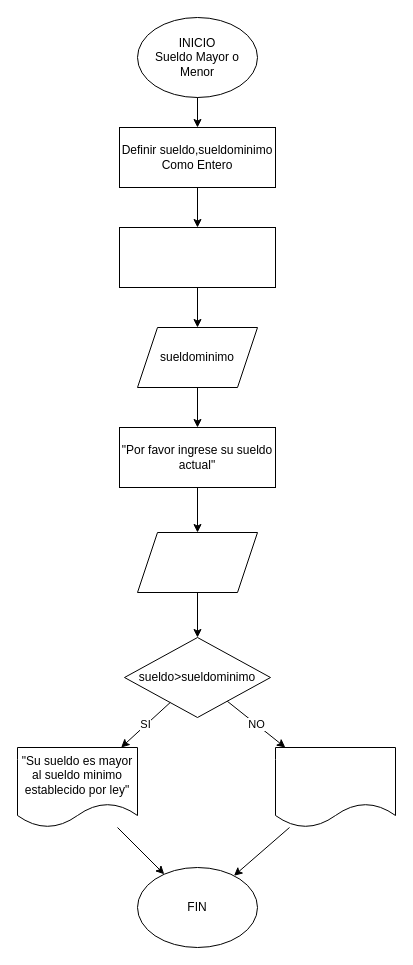
Some shapes in this 413 by 965 pixel diagram are drawn without their labels. Each missing label, with the centre of its shape:
"Lamentamos informar que su suelo es menor al sueldo minimo": pixel 335 787
"Por favor escriba el sueldo minimo permitido por ley": pixel 197 257
sueldo: pixel 197 562
